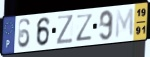6: (36, 16, 51, 48), (17, 18, 31, 50)
9: (98, 9, 114, 42)
M: (115, 7, 135, 41)
Z: (55, 14, 74, 46), (75, 13, 95, 43)
